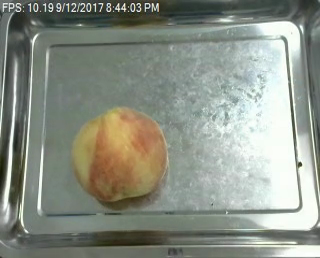Peach: (71, 106, 169, 202)
